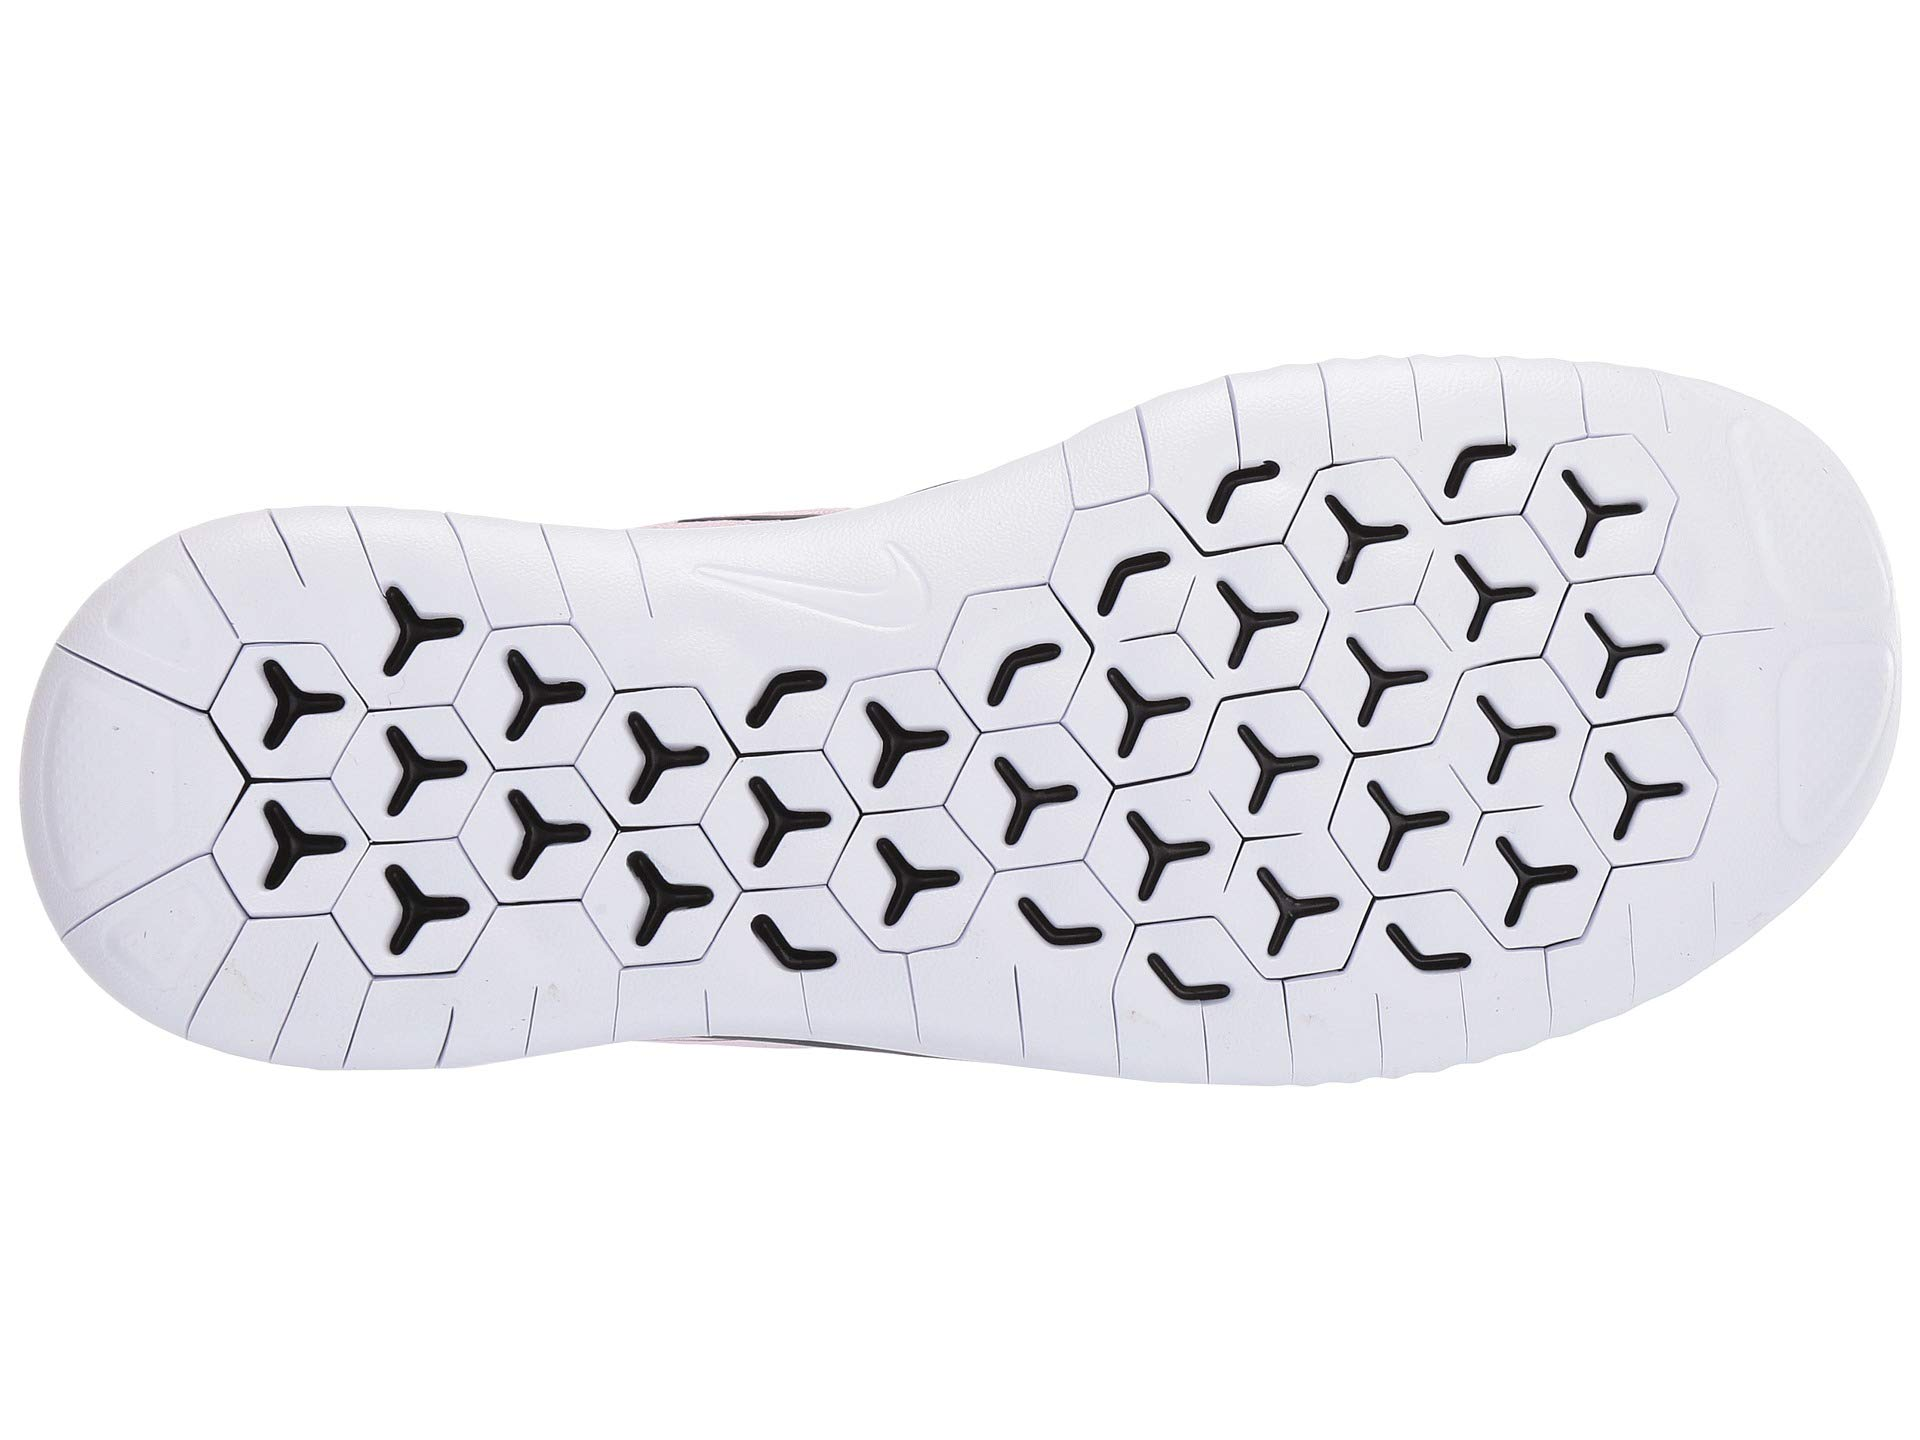polygon: (1172, 535, 1584, 939), (224, 599, 600, 1009)
star: (1172, 535, 1584, 939), (224, 599, 600, 1009)
